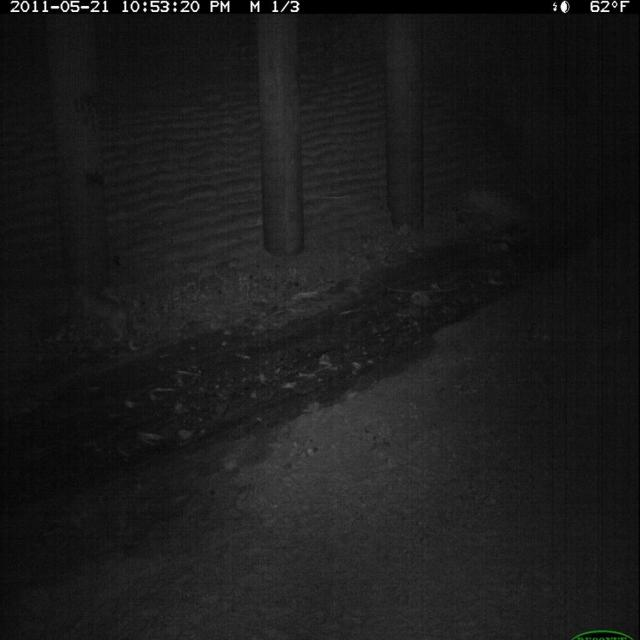bobcat: (76, 284, 143, 352)
